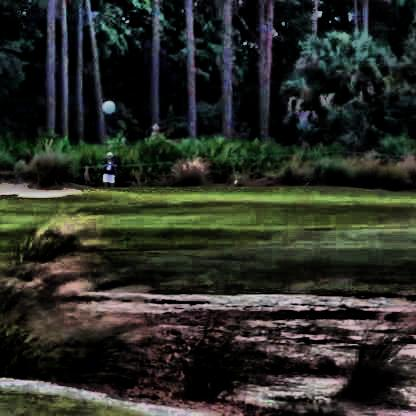golfball: (99, 98, 113, 111)
